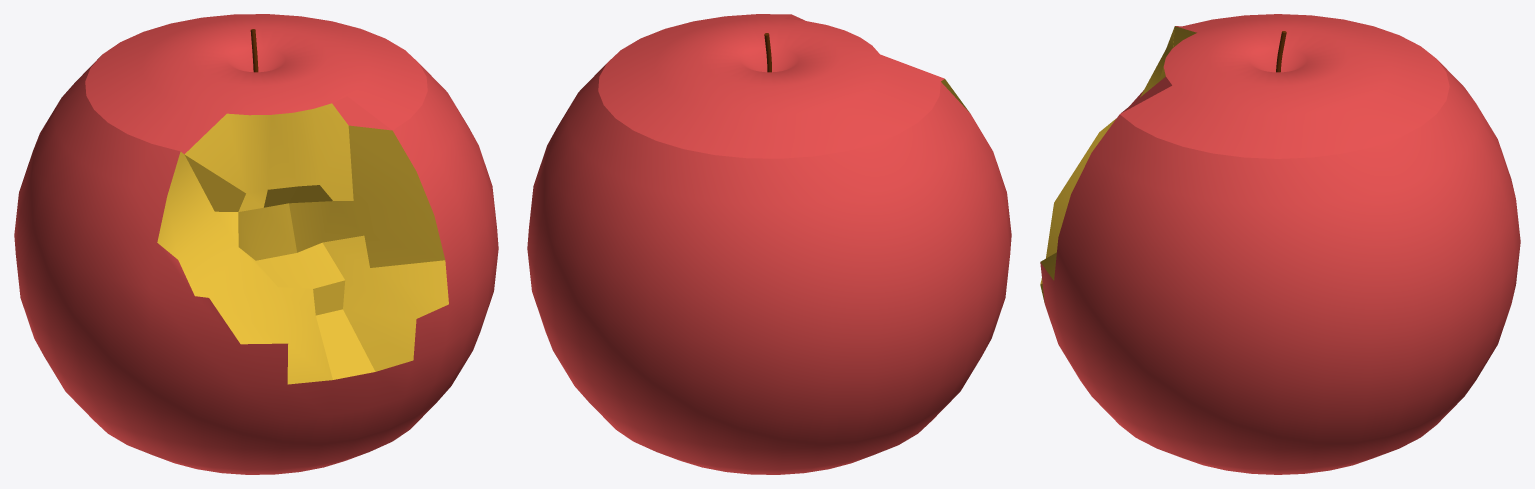
The model's file is apple.gltf.
The picture shows the model from 3 angles, left to right: view 1: azimuth 30°, elevation 25°; view 2: azimuth 150°, elevation 25°; view 3: azimuth 270°, elevation 25°; orthographic projection.
Visible parts, largest first — view 1: 球; view 2: 球; view 3: 球.
Part boxes in pixels (left/top/right/bottom): 球: left=14, top=14, right=498, bottom=474; 球: left=527, top=14, right=1011, bottom=474; 球: left=1040, top=14, right=1520, bottom=474.
Bounding box in the file's own units: 0.03 × 0.0274 × 0.0297.
